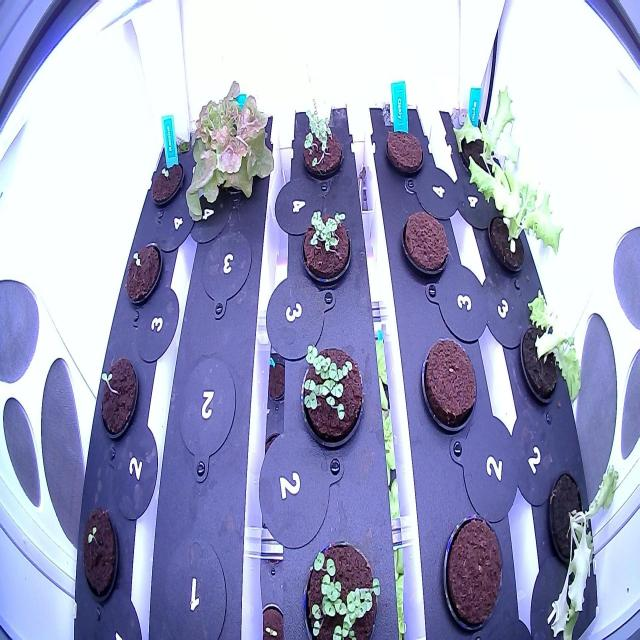empty_pod: (174, 350, 238, 484), (156, 525, 230, 639), (199, 222, 254, 324)
germination: (298, 534, 386, 638), (296, 338, 368, 454), (74, 504, 125, 608), (298, 205, 354, 290), (96, 352, 142, 444), (298, 105, 348, 182), (122, 234, 164, 312), (149, 152, 186, 210)
pod: (437, 506, 506, 636), (415, 325, 481, 439), (397, 205, 452, 280), (381, 124, 427, 179)
